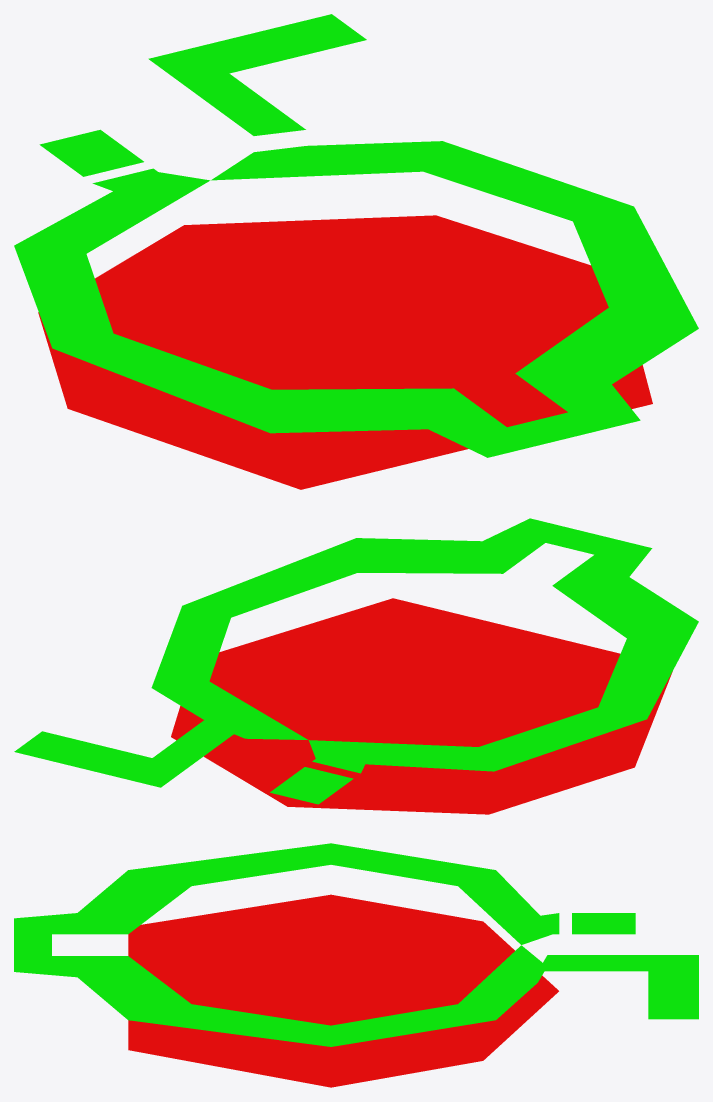
File: PisoSala3.glb
3 views of the same model, one above another, from view 1: azimuth 30°, elevation 25°; view 2: azimuth 150°, elevation 25°; view 3: azimuth 270°, elevation 25° (orthographic). The views are drawn at different scales.
Visible parts, largest first — view 1: PisoSala3; view 2: PisoSala3; view 3: PisoSala3.
Boxes of the visible parts, left/top/right/bottom form: PisoSala3: left=14, top=14, right=698, bottom=489; PisoSala3: left=14, top=518, right=698, bottom=814; PisoSala3: left=14, top=843, right=698, bottom=1087.
Size of the model in its own units: 38 by 5 by 54.
